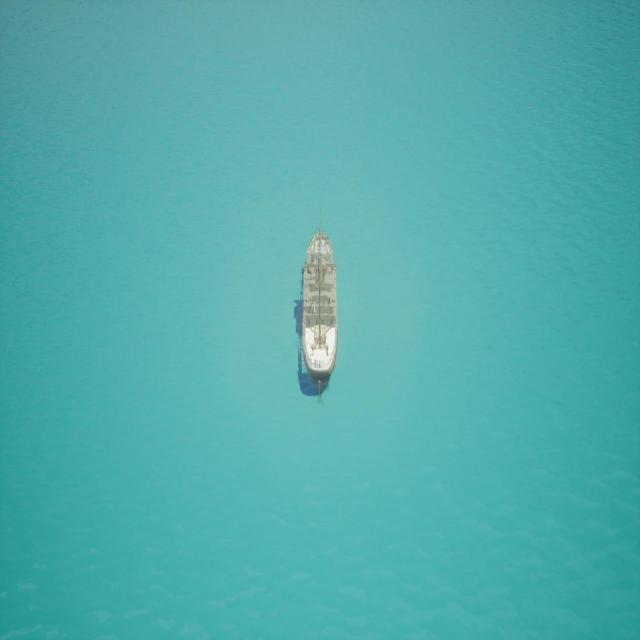fishing ship: (296, 195, 346, 407)
